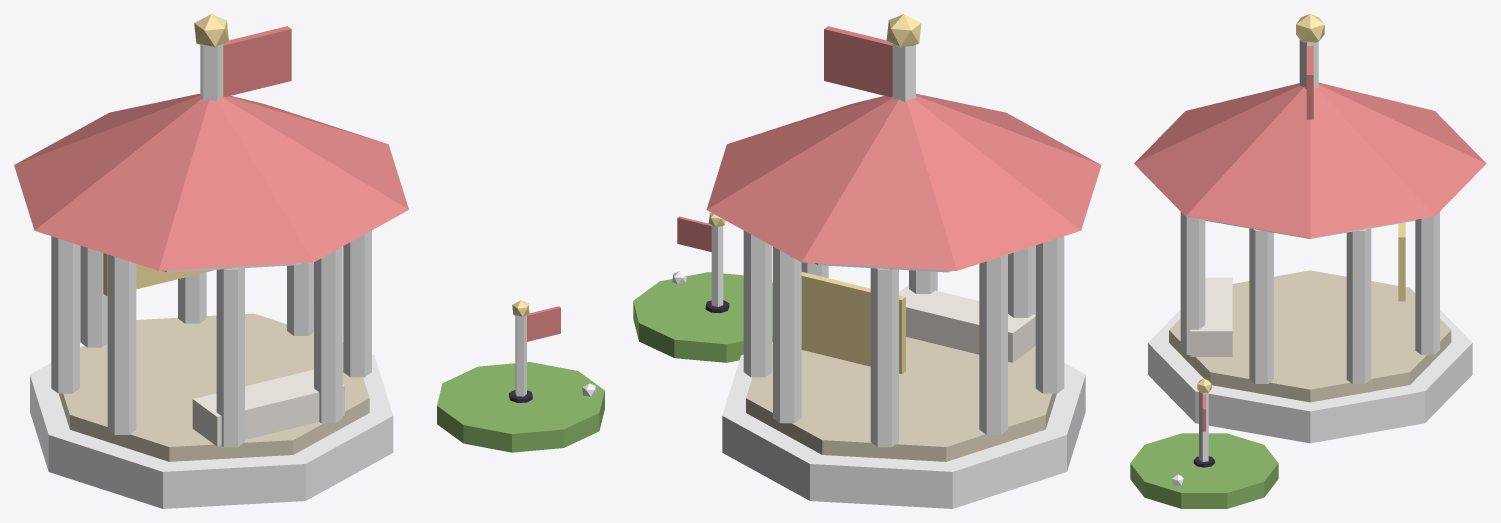
Rendered from park-landmark-s2b.glb.
3 views of the same model, side by side, from view 1: azimuth 30°, elevation 25°; view 2: azimuth 150°, elevation 25°; view 3: azimuth 270°, elevation 25° (orthographic). The views are drawn at different scales.
Visible parts, largest first — view 1: park-landmark-s2b; view 2: park-landmark-s2b; view 3: park-landmark-s2b.
Part boxes in pixels (x1,y1,x2,y2): park-landmark-s2b: (14,14,604,508); park-landmark-s2b: (633,14,1101,508); park-landmark-s2b: (1130,14,1486,508).
Size of the model in its own units: 1.4 by 1.13 by 1.01.
